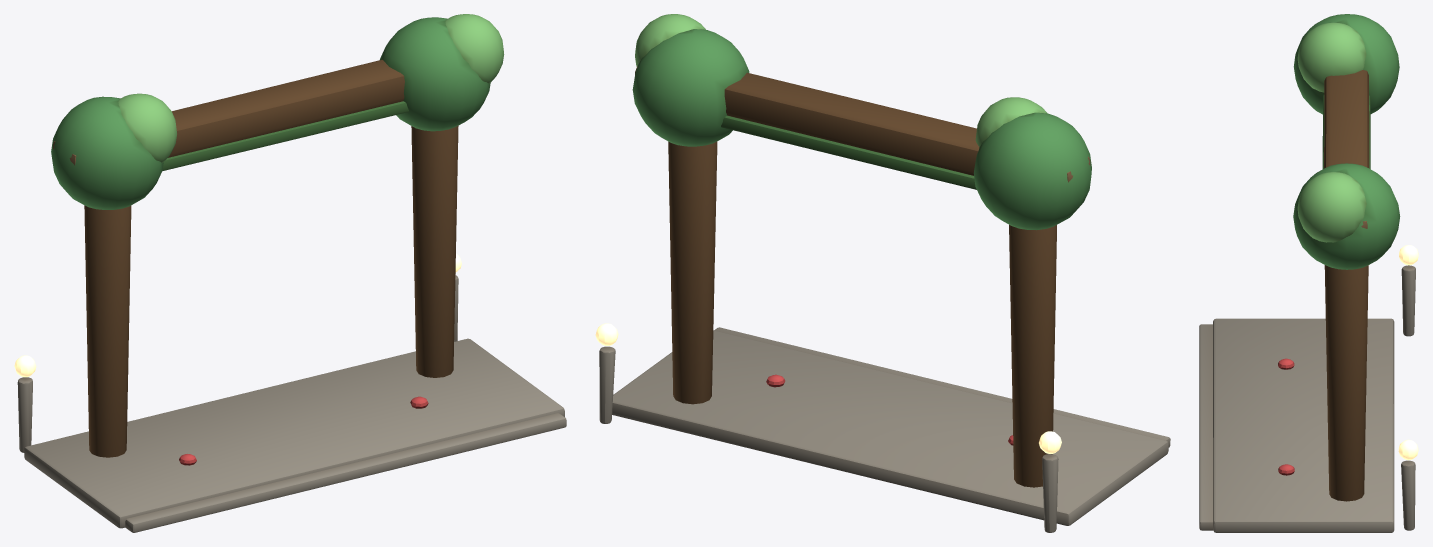
3 renders of one model, left to right at view 1: azimuth 30°, elevation 25°; view 2: azimuth 150°, elevation 25°; view 3: azimuth 270°, elevation 25°, orthographic. The views are drawn at different scales.
Parts seen in each view (by area): view 1: gate_9257d174; view 2: gate_9257d174; view 3: gate_9257d174.
Boxes of the visible parts, x1=… form: gate_9257d174: x1=14, y1=14, x2=566, y2=532; gate_9257d174: x1=595, y1=14, x2=1170, y2=532; gate_9257d174: x1=1199, y1=14, x2=1418, y2=532.
Bounding box in the file's own units: 5.6 × 4.39 × 2.55.
